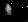person: (6, 4, 13, 16)
